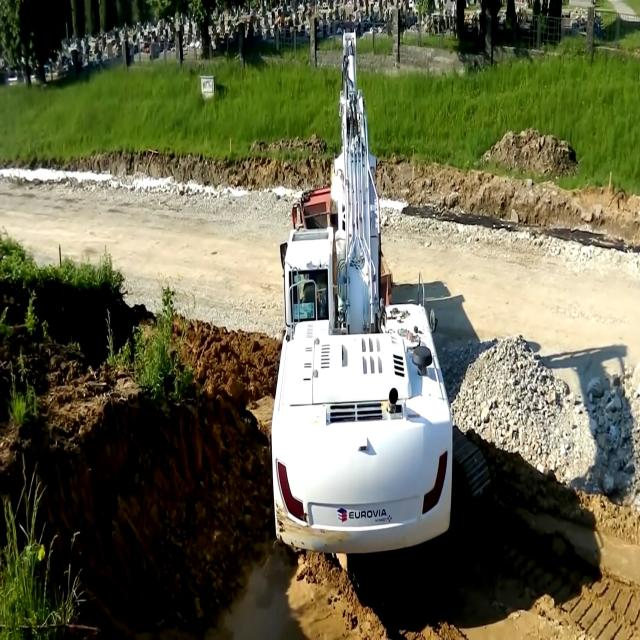Maquinaria: (271, 29, 452, 552)
